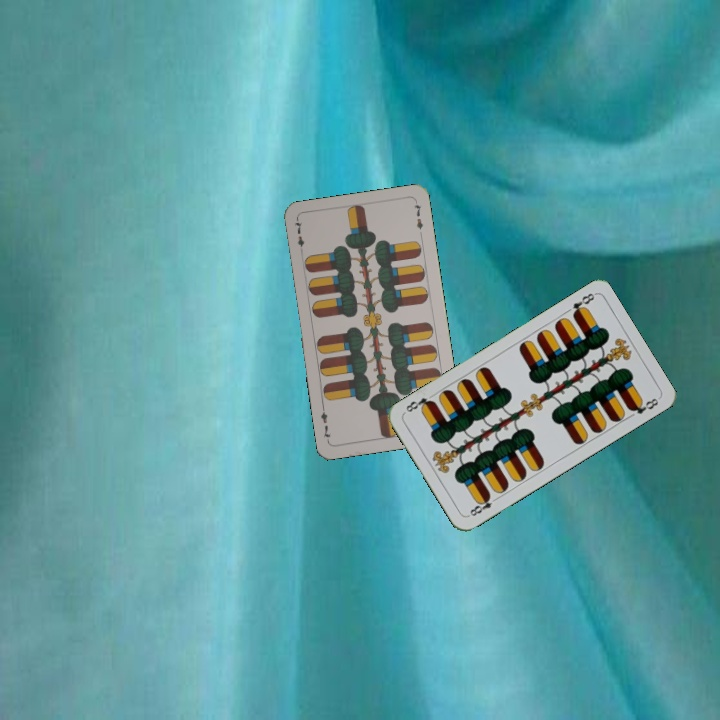E7: (290, 216, 307, 257)
E8: (560, 289, 597, 319), (464, 491, 501, 519)
